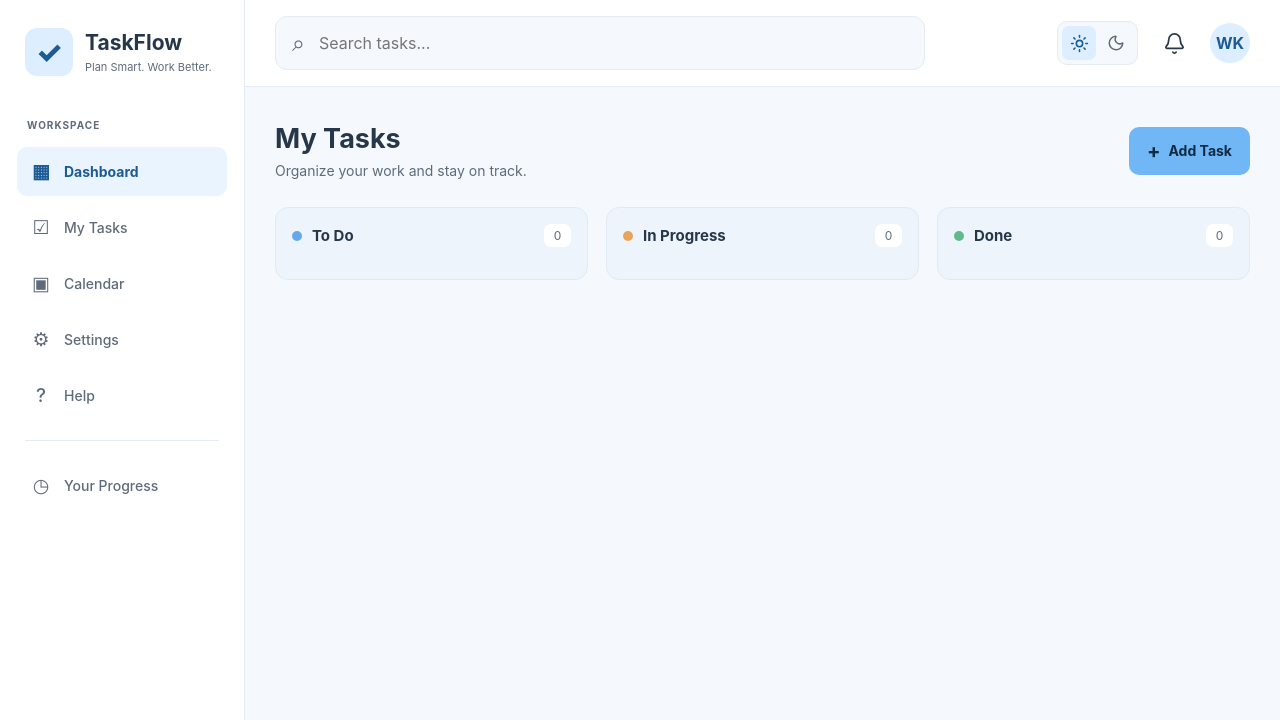
it: dashboard task statistics › shows zero percent when there are no tasks
Click the link "◷ Your Progress" at (96, 486), box [33, 474, 158, 497]
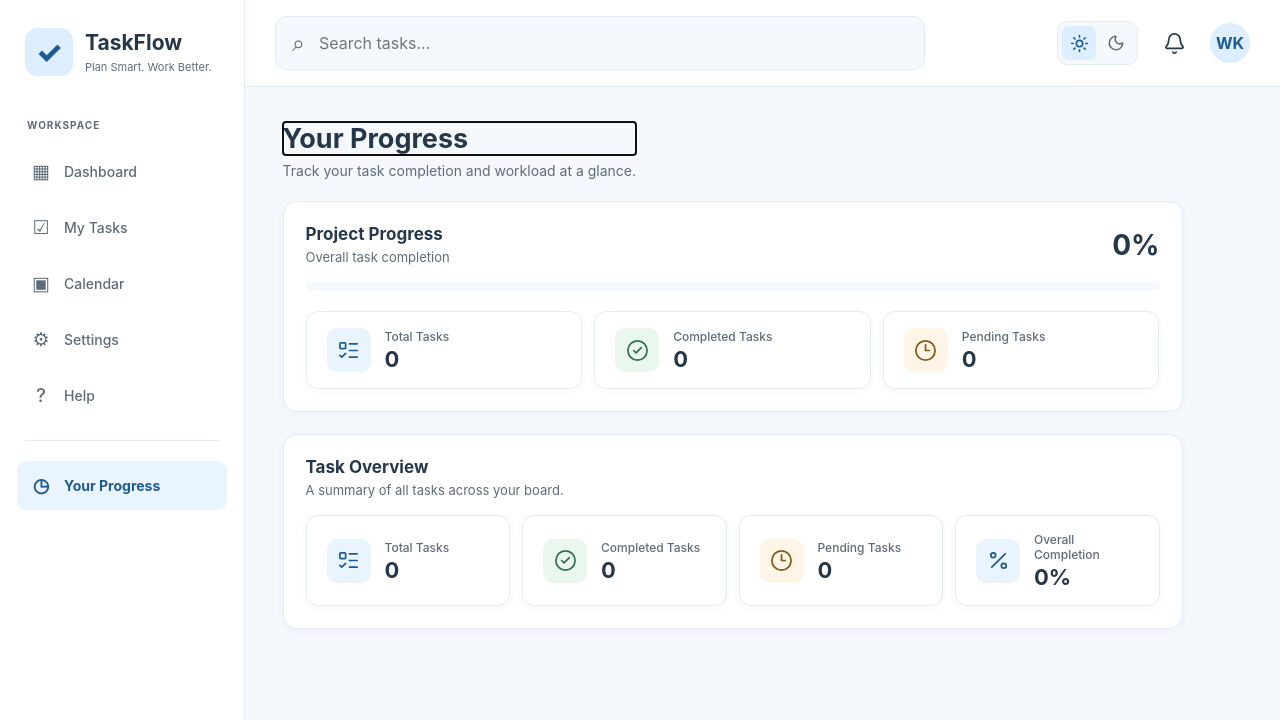
Now the element "Total Tasks" in the row of "Overall Completion" shows "0", box [384, 556, 399, 582]
Now the element "Completed Tasks" in the row of "Overall Completion" shows "0", box [601, 556, 616, 582]
Now the element "Pending Tasks" next to "Overall Completion" shows "0", box [818, 556, 832, 582]
